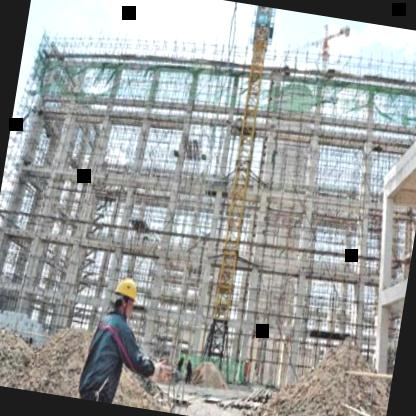helmet: (109, 272, 142, 318)
